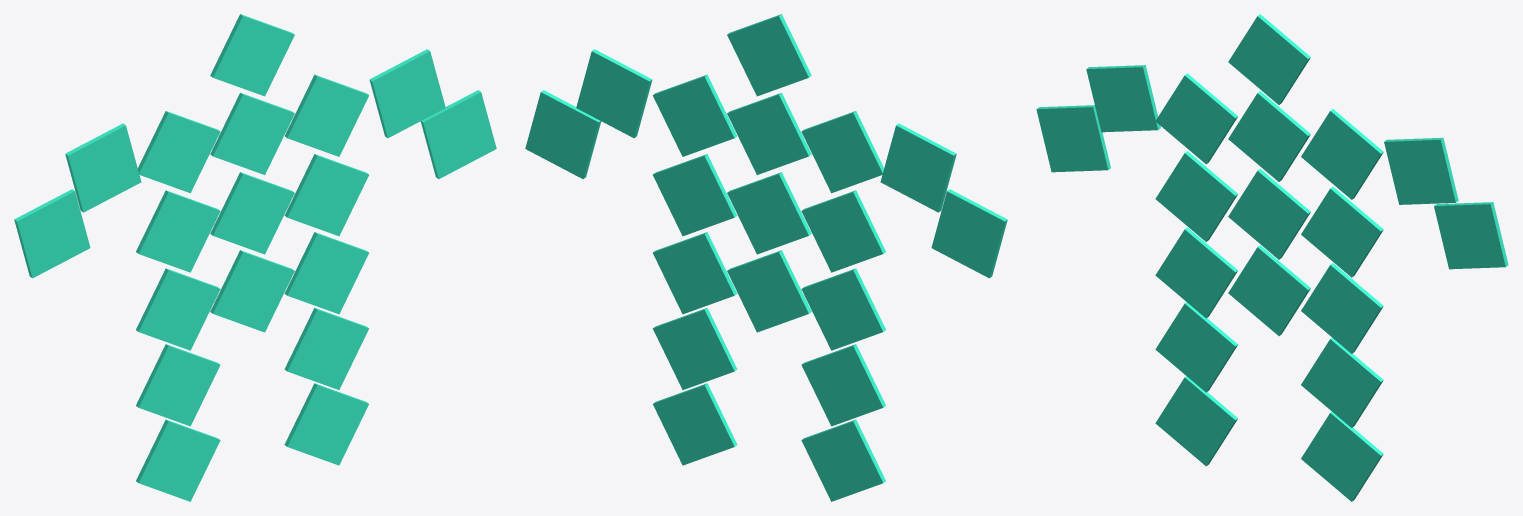
File: MystBody.fbx
3 views of the same model, side by side, from view 1: azimuth 30°, elevation 25°; view 2: azimuth 150°, elevation 25°; view 3: azimuth 330°, elevation 25° (orthographic). The views are drawn at different scales.
Visible parts, largest first — view 1: Cube.018, Cube.004, Cube.005, Cube.017, Cube.016, Cube.010, Cube.014, Cube.003, Cube.007, Cube.011, Cube.012, Cube.001 (+6 smaller); view 2: Cube.018, Cube.004, Cube.005, Cube.017, Cube.016, Cube.010, Cube.014, Cube.003, Cube.007, Cube.011, Cube.012, Cube.001 (+6 smaller); view 3: Cube.017, Cube.018, Cube.005, Cube.004, Cube.010, Cube.013, Cube.006, Cube.008, Cube.015, Cube.016, Cube.009, Cube.012 (+6 smaller).
Part boxes in pixels (box(x1,y1,x2,y2)): Cube.018: box(369, 49, 445, 138); Cube.004: box(14, 189, 90, 278); Cube.005: box(65, 123, 141, 212); Cube.017: box(420, 90, 496, 178); Cube.016: box(210, 14, 294, 96); Cube.010: box(210, 250, 294, 332); Cube.014: box(210, 92, 294, 174); Cube.003: box(136, 419, 220, 501); Cube.007: box(136, 344, 220, 426); Cube.011: box(210, 172, 294, 254); Cube.012: box(136, 268, 220, 350); Cube.001: box(284, 383, 368, 465); Cube.018: box(576, 49, 652, 138); Cube.004: box(931, 189, 1007, 278); Cube.005: box(880, 123, 956, 212); Cube.017: box(525, 90, 601, 178); Cube.016: box(727, 14, 811, 96); Cube.010: box(727, 250, 811, 332); Cube.014: box(727, 92, 811, 174); Cube.003: box(801, 419, 885, 501); Cube.007: box(801, 344, 885, 426); Cube.011: box(727, 172, 811, 254); Cube.012: box(801, 268, 885, 350); Cube.001: box(653, 383, 737, 465); Cube.017: box(1434, 202, 1508, 269); Cube.018: box(1384, 137, 1458, 204); Cube.005: box(1086, 65, 1160, 132); Cube.004: box(1036, 105, 1110, 172); Cube.010: box(1228, 245, 1310, 335); Cube.013: box(1155, 151, 1237, 241); Cube.006: box(1301, 109, 1383, 199); Cube.008: box(1301, 263, 1383, 353); Cube.015: box(1156, 73, 1237, 164); Cube.016: box(1228, 14, 1310, 104); Cube.009: box(1301, 186, 1383, 277); Cube.012: box(1155, 227, 1237, 318).
Bounding box in the file's own units: 192 × 181 × 2.
